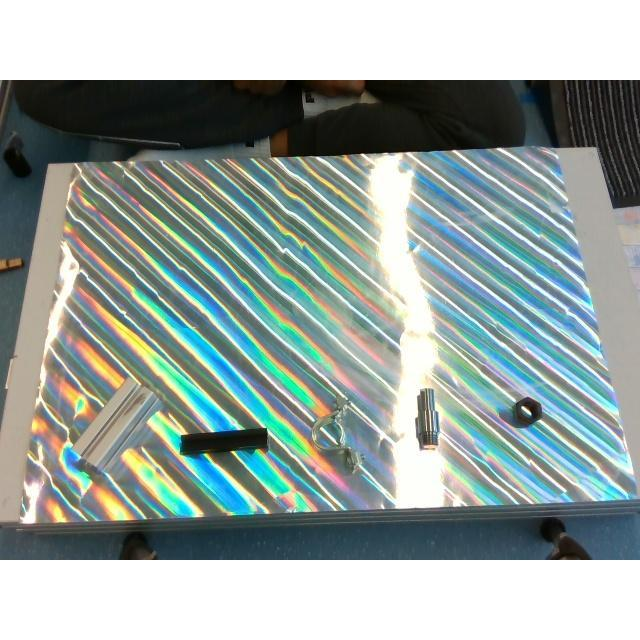Axis2: (415, 388, 439, 448)
F20_20_B: (179, 427, 267, 455)
Housing: (310, 397, 362, 473)
M20: (512, 396, 542, 426)
S40_40_G: (74, 377, 162, 475)
